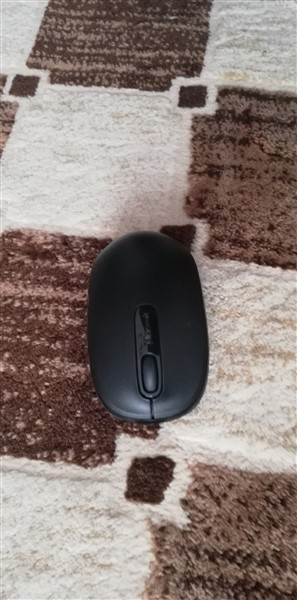mouse: (82, 228, 218, 427)
